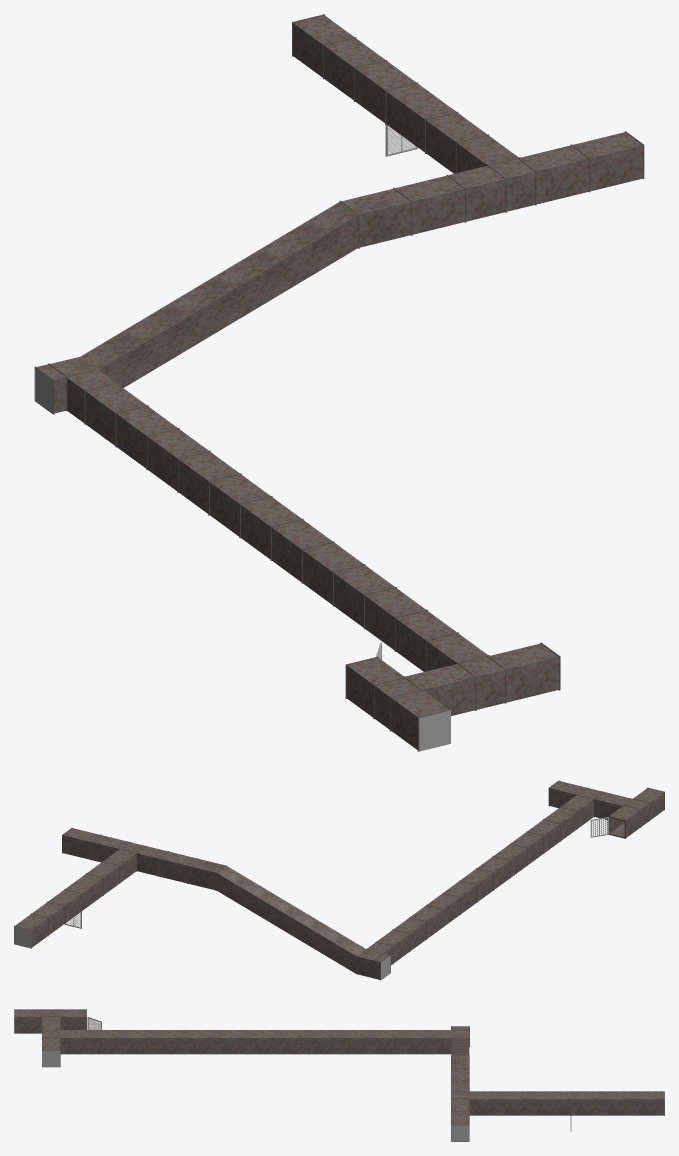
File: SM_LongVent_01.fbx
The picture shows the model from 3 angles, top to bottom: view 1: azimuth 30°, elevation 25°; view 2: azimuth 150°, elevation 25°; view 3: azimuth 270°, elevation 25°; orthographic projection. The views are drawn at different scales.
Parts seen in each view (by area): view 1: SM_LongVent_01a, SM_LongVent_01c, SM_LongVent_01b; view 2: SM_LongVent_01a, SM_LongVent_01c, SM_LongVent_01b; view 3: SM_LongVent_01a, SM_LongVent_01c, SM_LongVent_01b.
Boxes of the visible parts, left/top/right/bottom form: SM_LongVent_01a: left=67, top=370, right=560, bottom=751; SM_LongVent_01c: left=292, top=14, right=644, bottom=234; SM_LongVent_01b: left=34, top=187, right=412, bottom=414; SM_LongVent_01a: left=367, top=780, right=664, bottom=965; SM_LongVent_01c: left=14, top=827, right=196, bottom=948; SM_LongVent_01b: left=187, top=858, right=390, bottom=980; SM_LongVent_01a: left=14, top=1009, right=451, bottom=1067; SM_LongVent_01c: left=451, top=1068, right=664, bottom=1141; SM_LongVent_01b: left=451, top=1026, right=469, bottom=1080.
Bounding box in the file's own units: 2729 × 495 × 4643.
